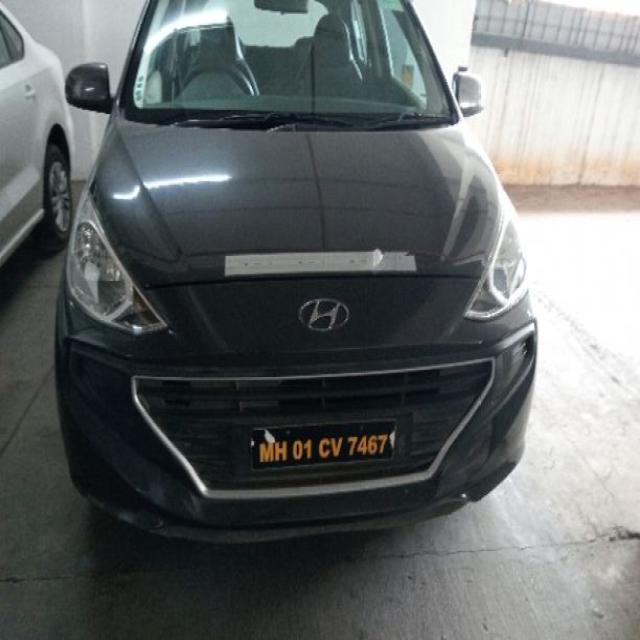license_plate: (247, 414, 400, 472)
